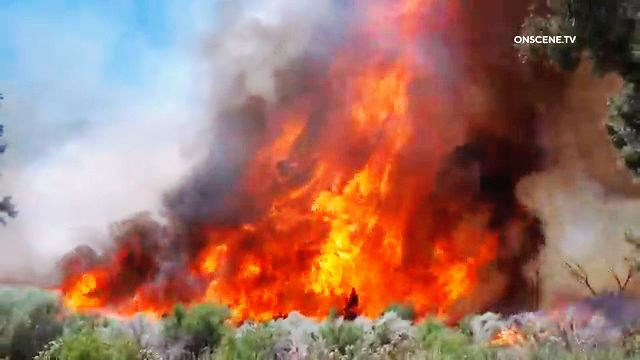fire: (254, 6, 460, 323), (46, 217, 477, 322)
smoke: (462, 72, 605, 279)
